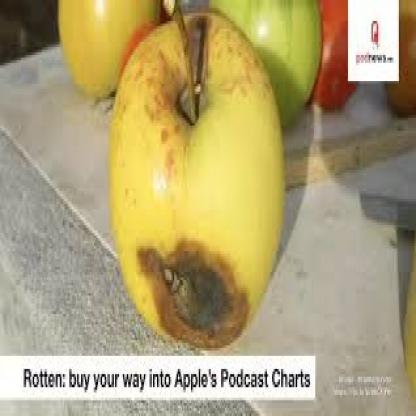apple: (210, 3, 320, 120), (55, 2, 157, 104), (311, 5, 368, 123)
damaged_apple: (114, 21, 284, 335)
